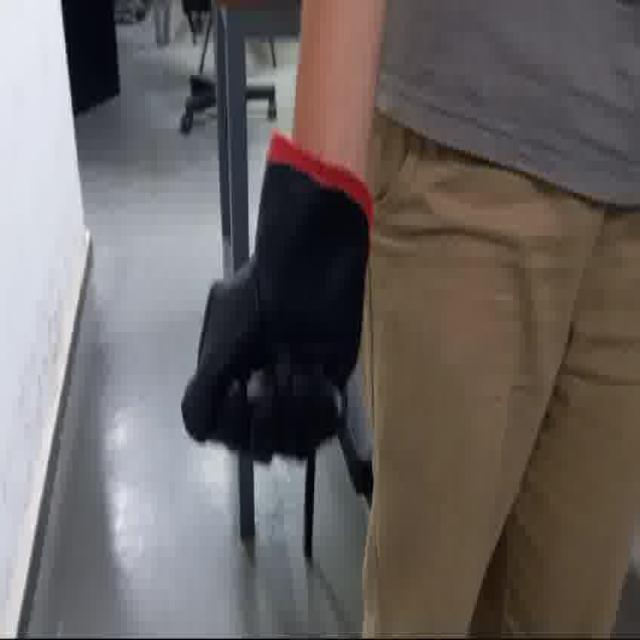Gloves: (180, 119, 369, 459)
